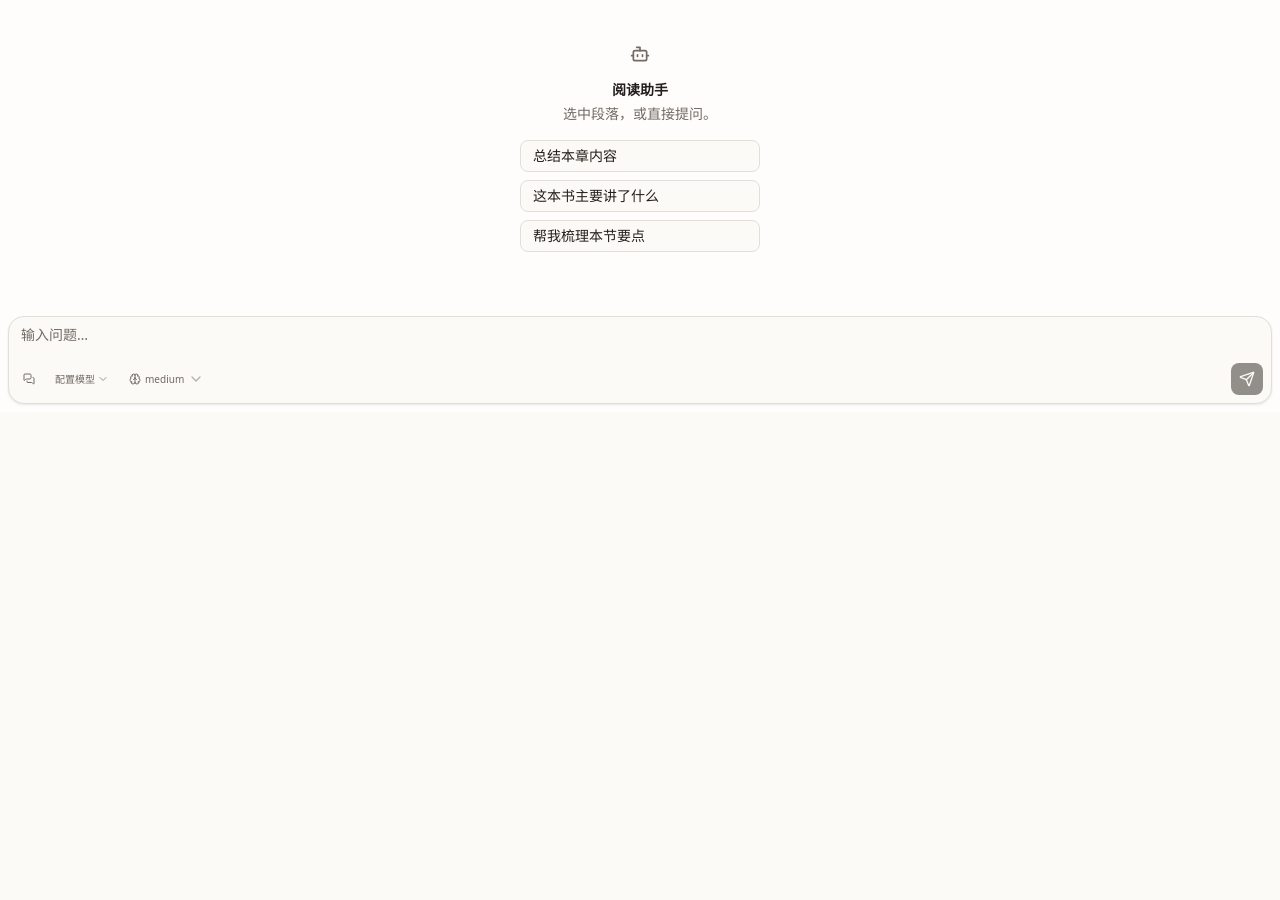
Test case: ChatPanel session layouts › opens the session list as a popover from the input row in docked variant
Click the button named "会话列表". click: (29,379)
box: [17,367,41,391]
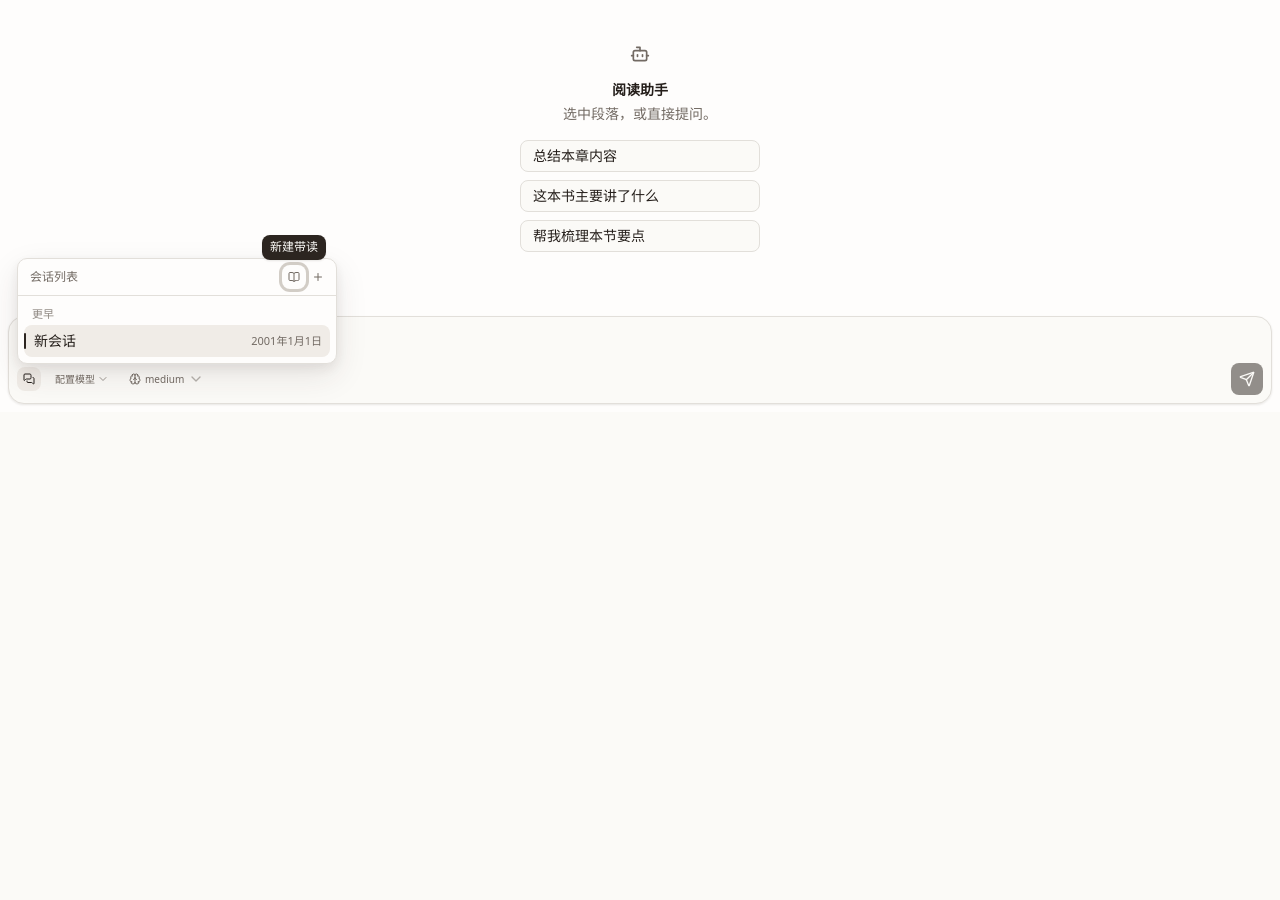
Expected: the button "配置模型" is shown, [49,367,115,391]
Expected: the button named "新建会话" is shown, [306,265,330,289]
Expected: the button named "会话列表" is expanded, [17,367,41,391]
